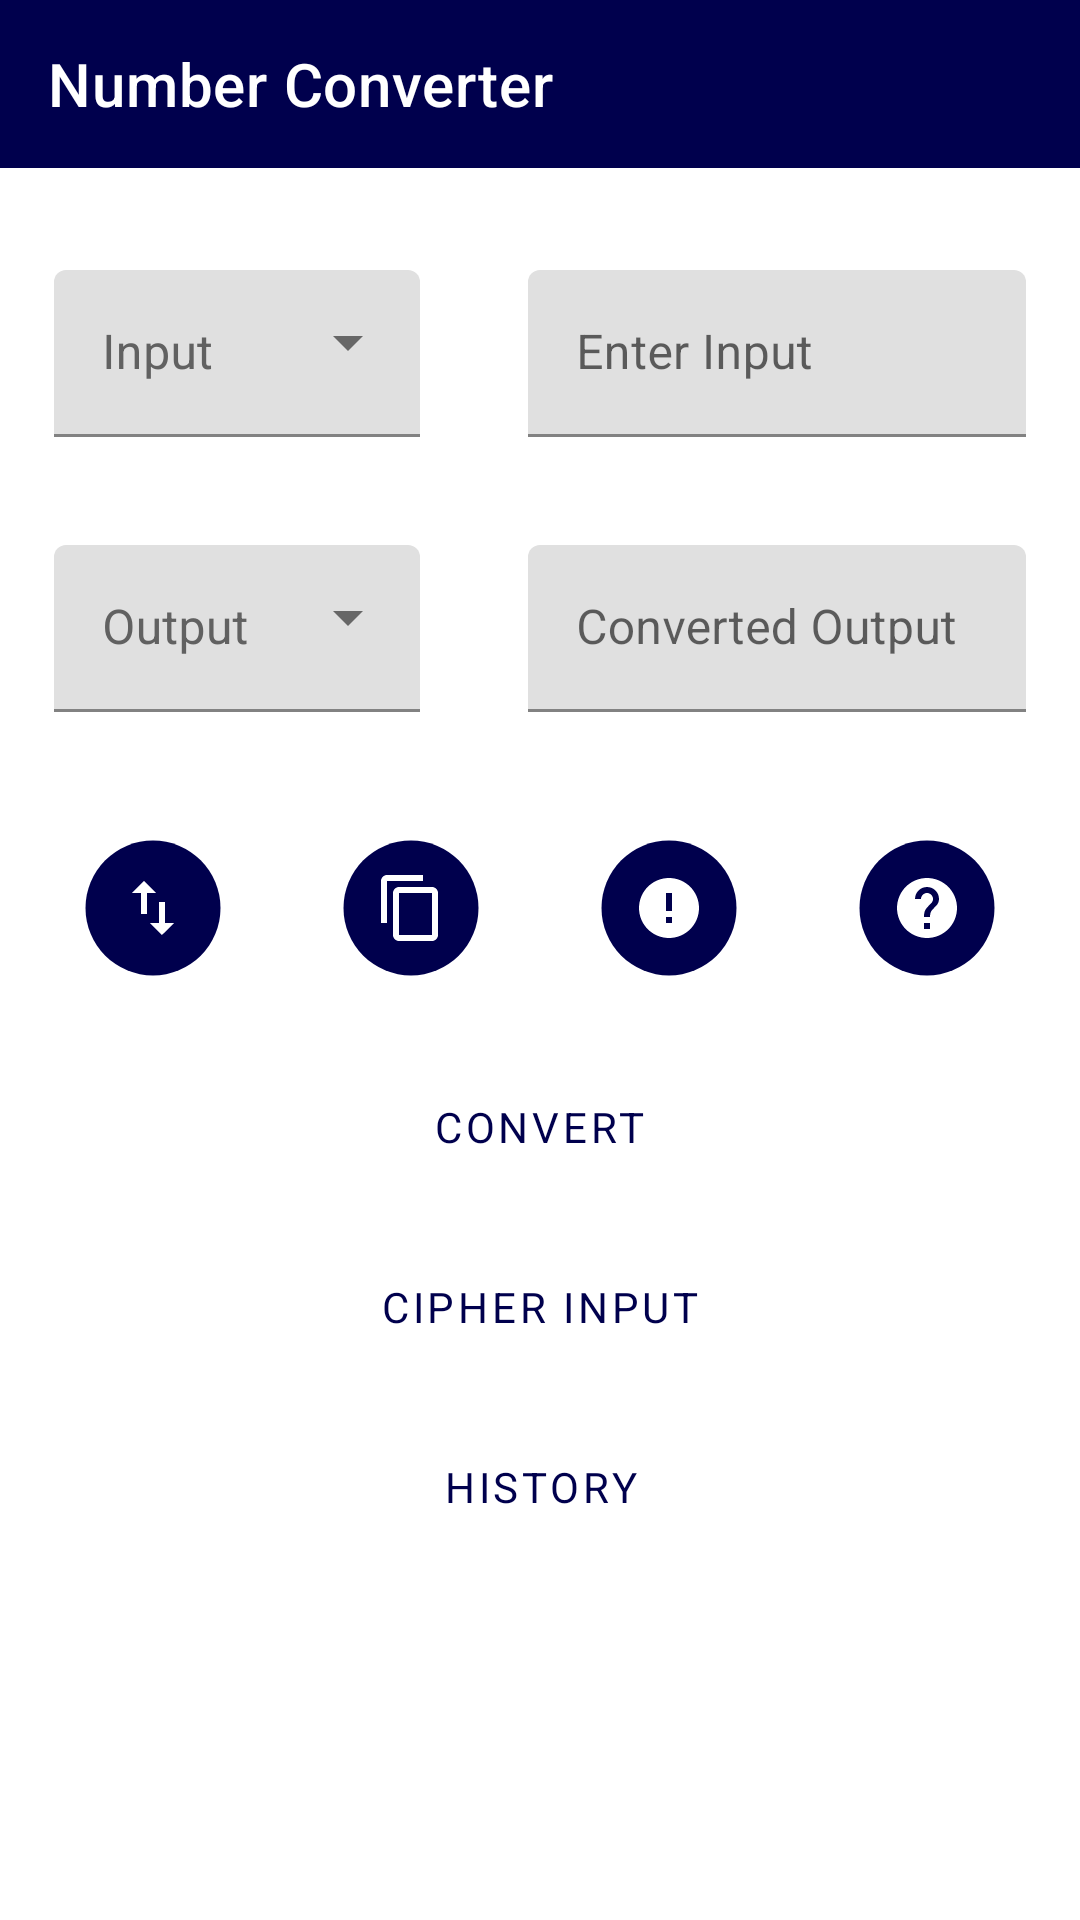

Named icons in this screenshot (1080 x 1920) and their bounding boxes, (x1, y1, x2, y2):
about us: (601, 840, 737, 976)
help: (859, 840, 995, 976)
